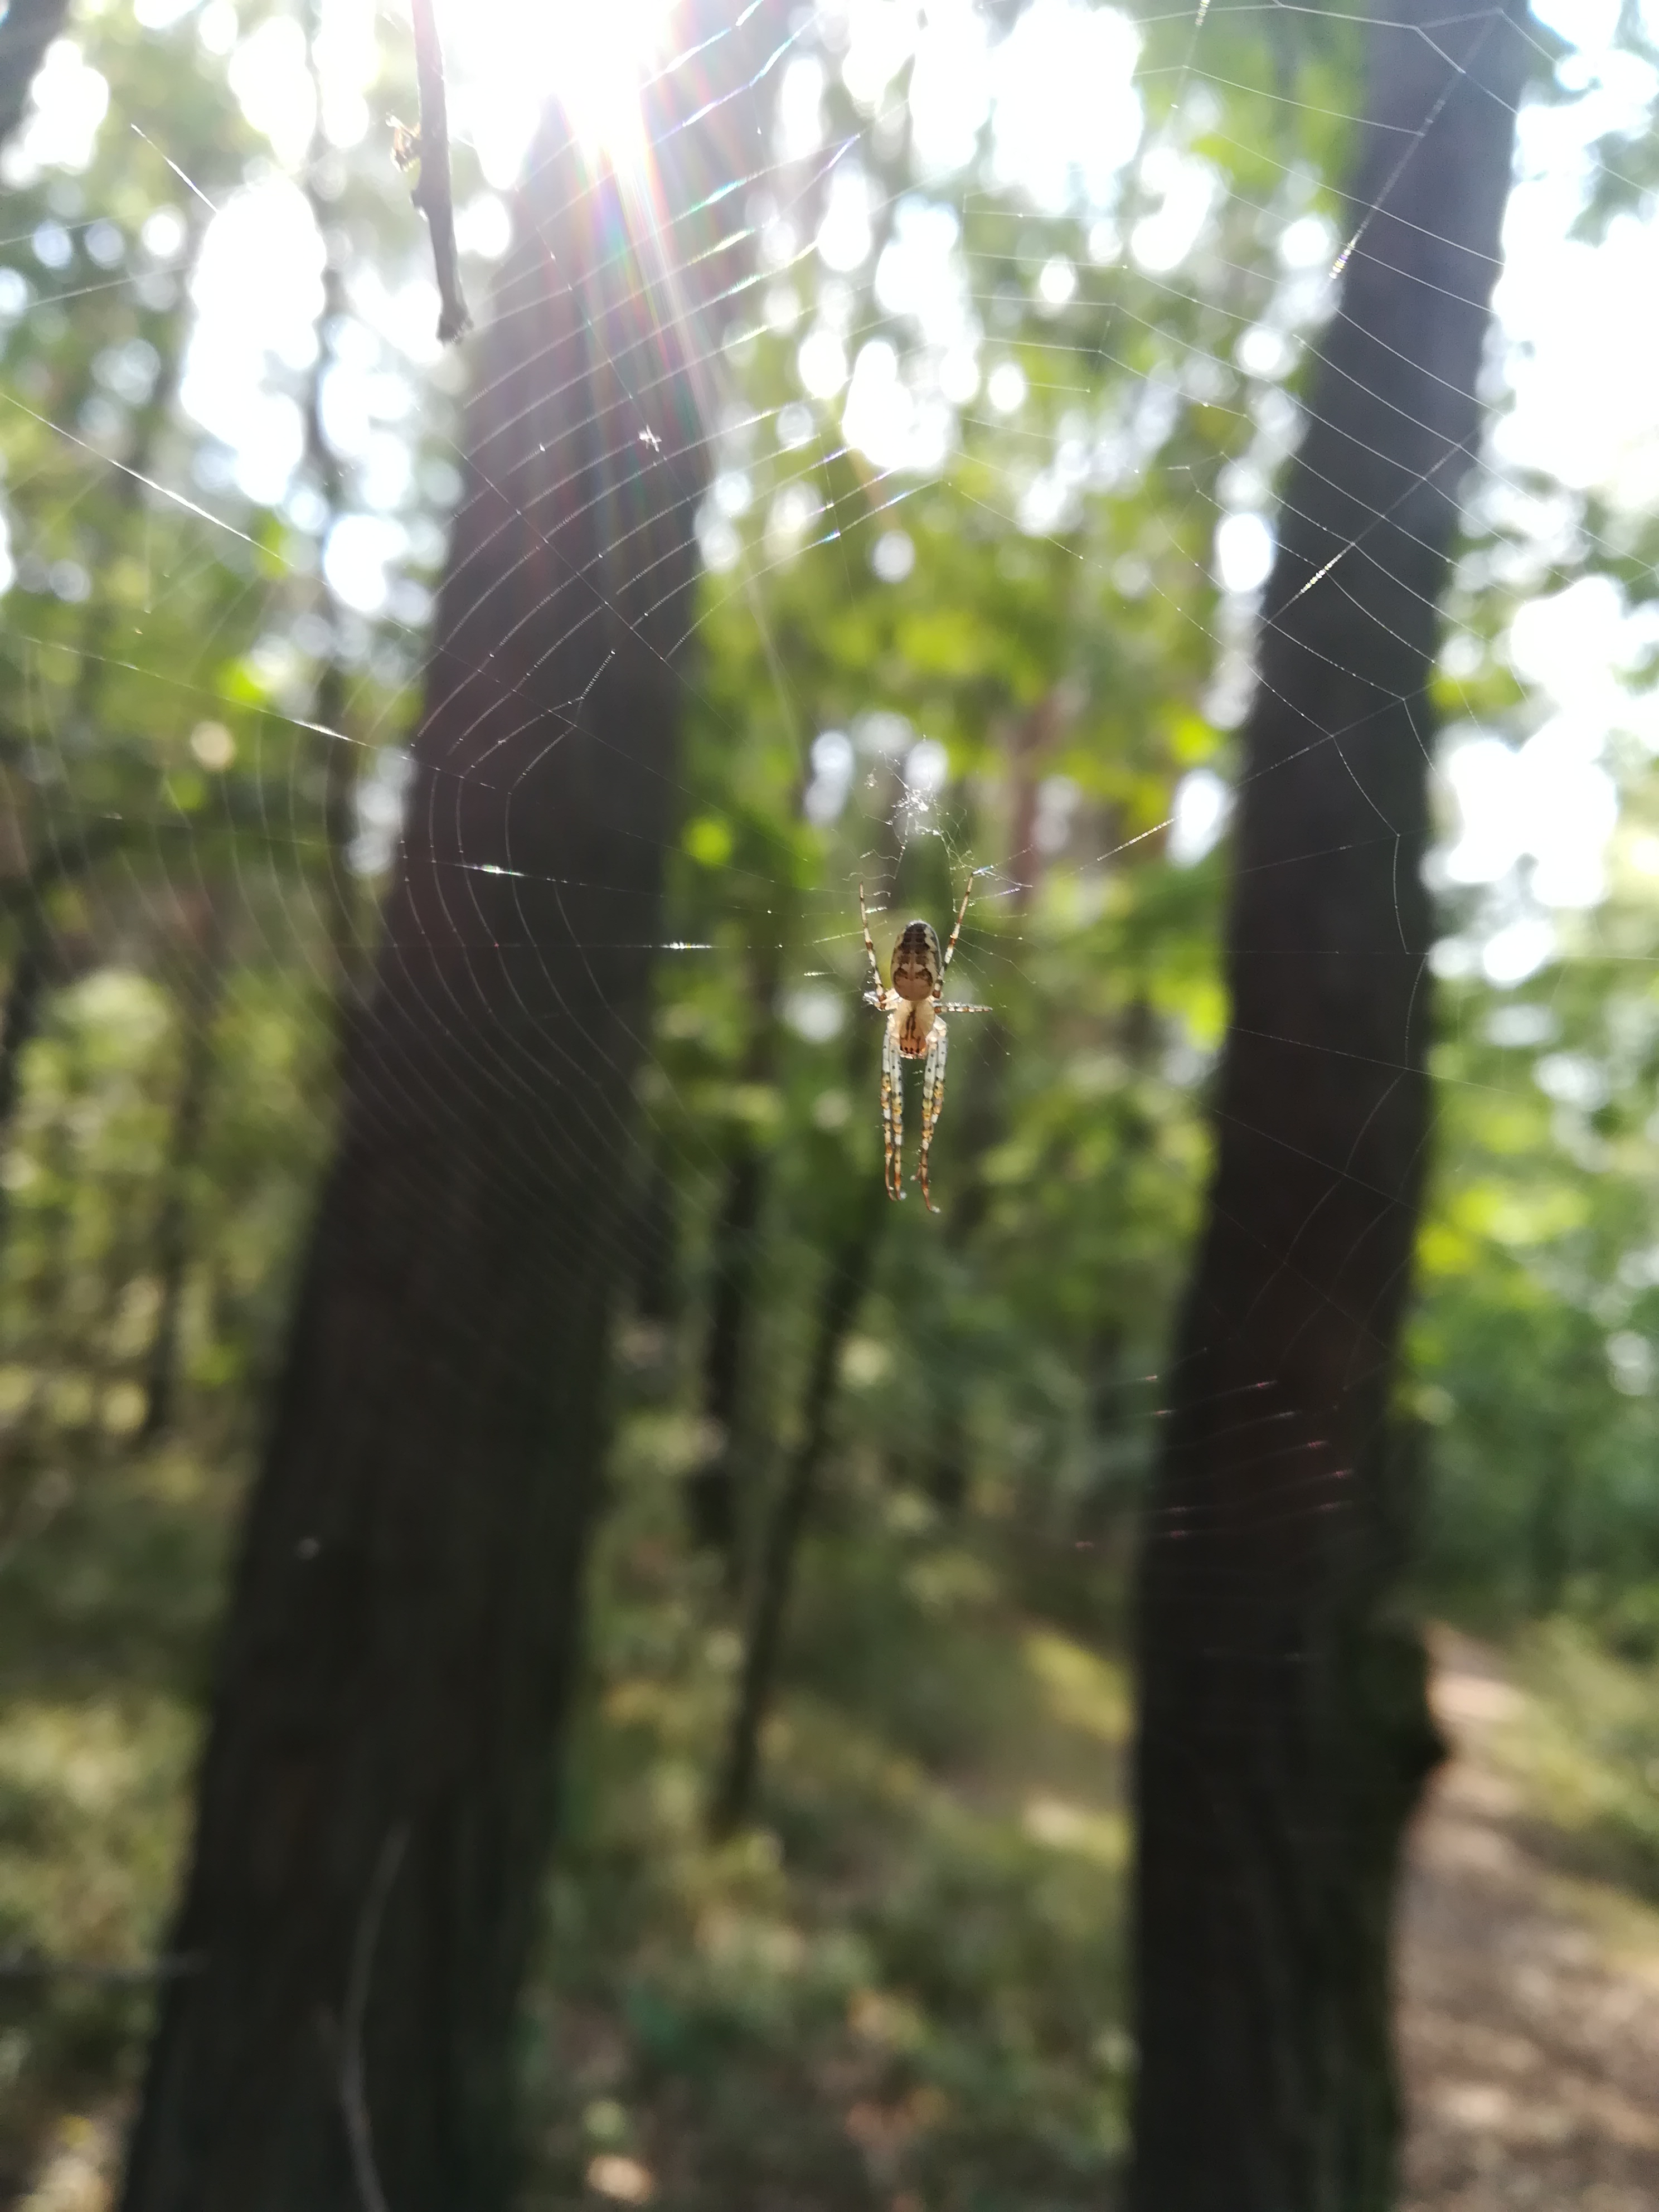spider: (821, 866, 1007, 1237)
